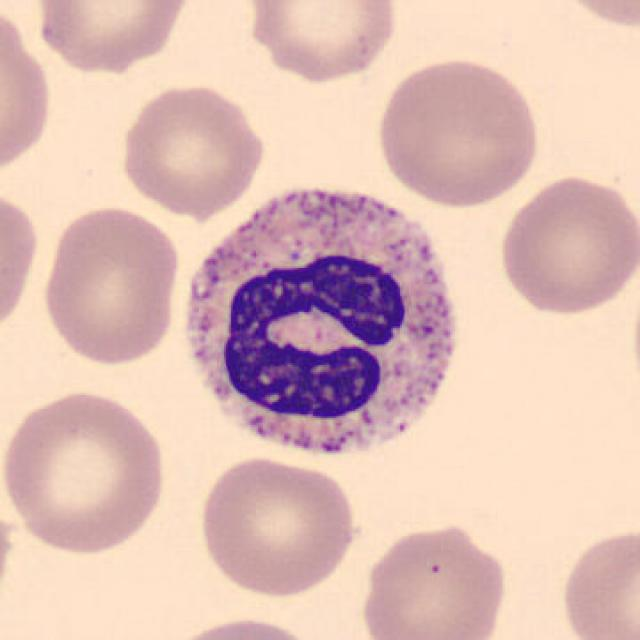Platelets: (165, 166, 475, 483)
RBC: (0, 386, 171, 559), (372, 53, 544, 210), (37, 201, 185, 368), (194, 453, 361, 600), (115, 79, 268, 219), (494, 169, 636, 319), (357, 518, 512, 640), (240, 0, 402, 85), (30, 0, 196, 74), (0, 0, 55, 183), (555, 522, 638, 640), (0, 185, 41, 342), (158, 612, 326, 640), (544, 0, 640, 32)
